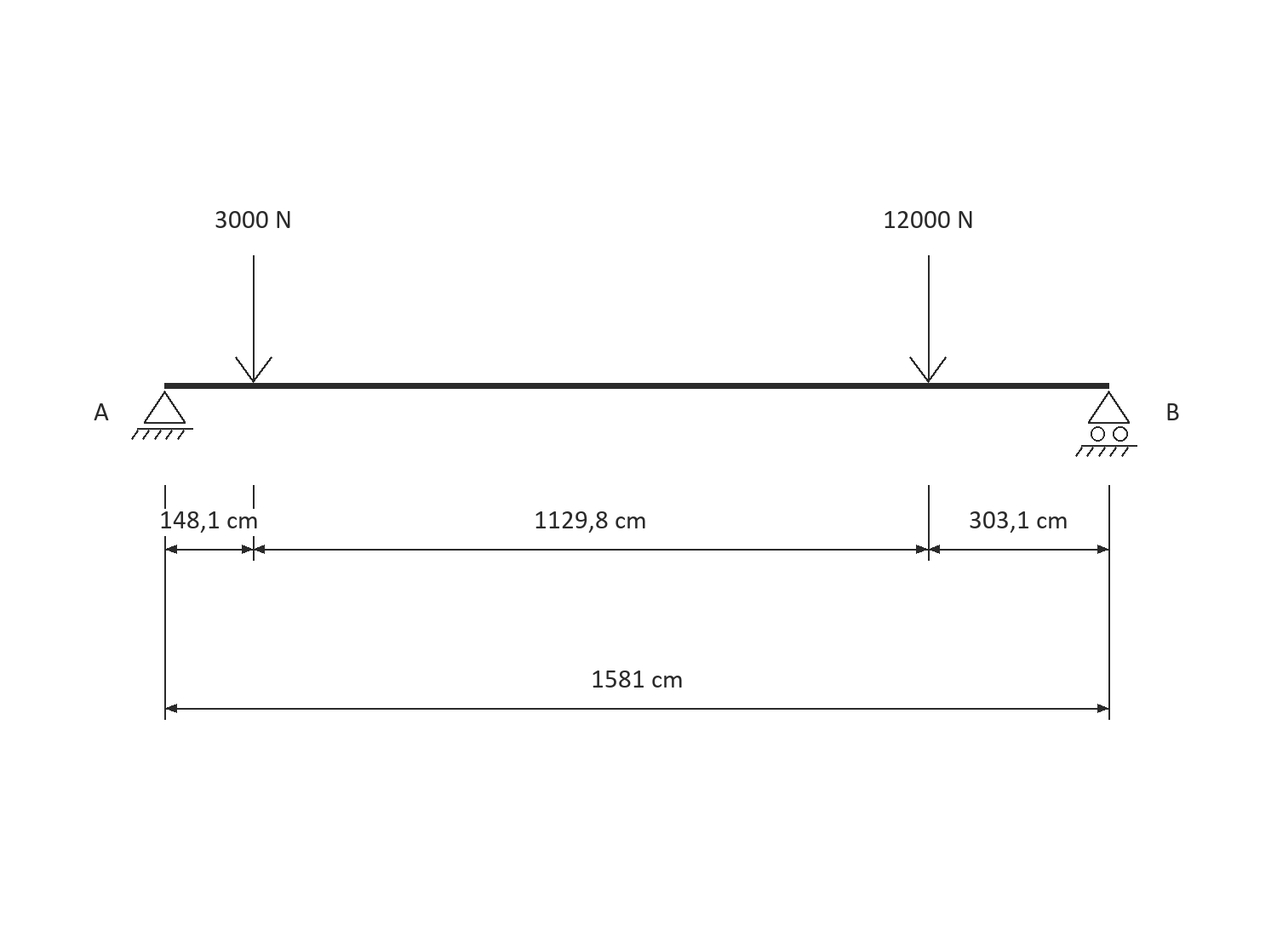pin_support: (131, 391, 193, 440)
point_load: (909, 255, 947, 383), (235, 255, 272, 383)
roller_support: (1075, 391, 1137, 457)
